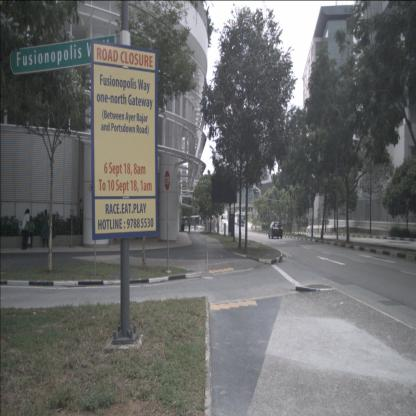human-pedestrian-adult: (21, 209, 30, 250), (41, 209, 50, 248), (26, 216, 36, 247), (188, 221, 191, 232), (194, 222, 196, 232), (196, 223, 198, 230)
vehicle-bus-rigid: (237, 214, 245, 226)
vehicle-car: (268, 222, 283, 238)
